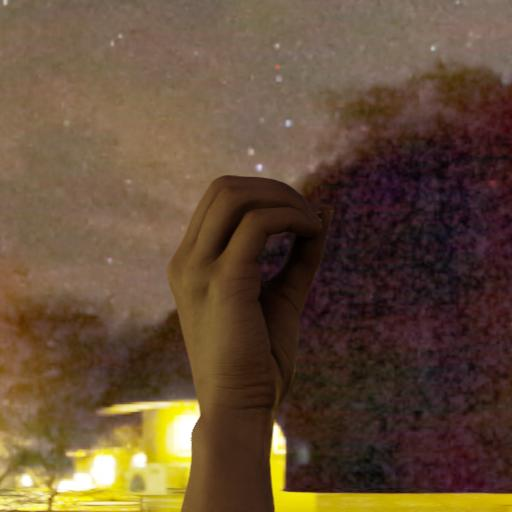O: (138, 142, 344, 456)
